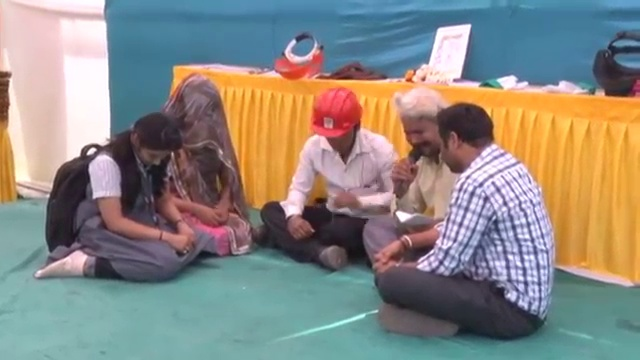helmet: (304, 84, 365, 140)
helmet_off: (441, 100, 497, 174), (397, 86, 449, 163), (167, 76, 226, 143), (122, 112, 183, 172)
helmet_on: (300, 83, 367, 156)
person: (357, 85, 558, 331), (33, 108, 210, 283), (251, 81, 408, 269), (359, 85, 469, 272), (151, 70, 251, 258)
